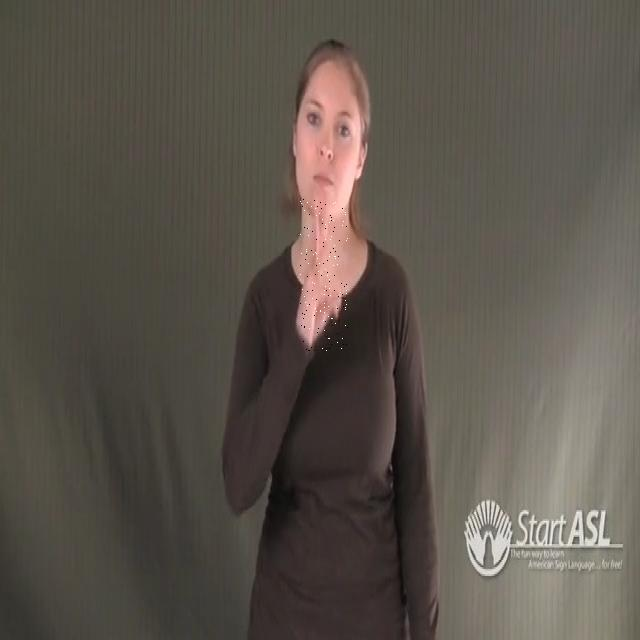water: (300, 198, 348, 351)
